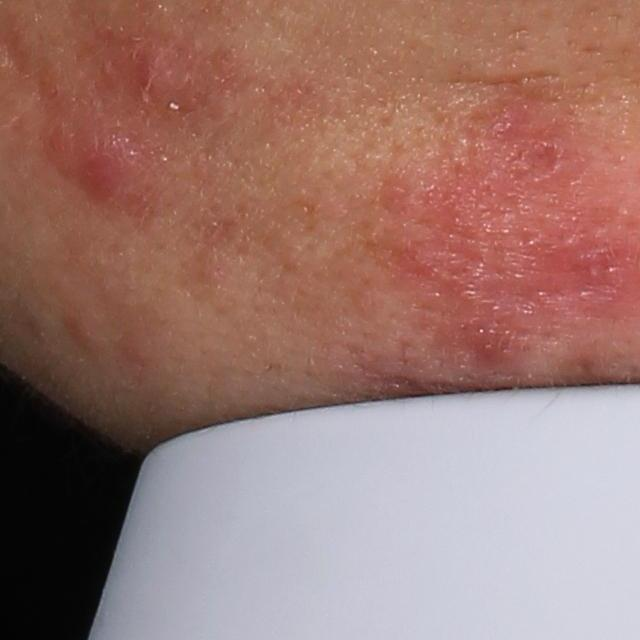papule: (72, 118, 139, 208), (125, 46, 185, 123)
